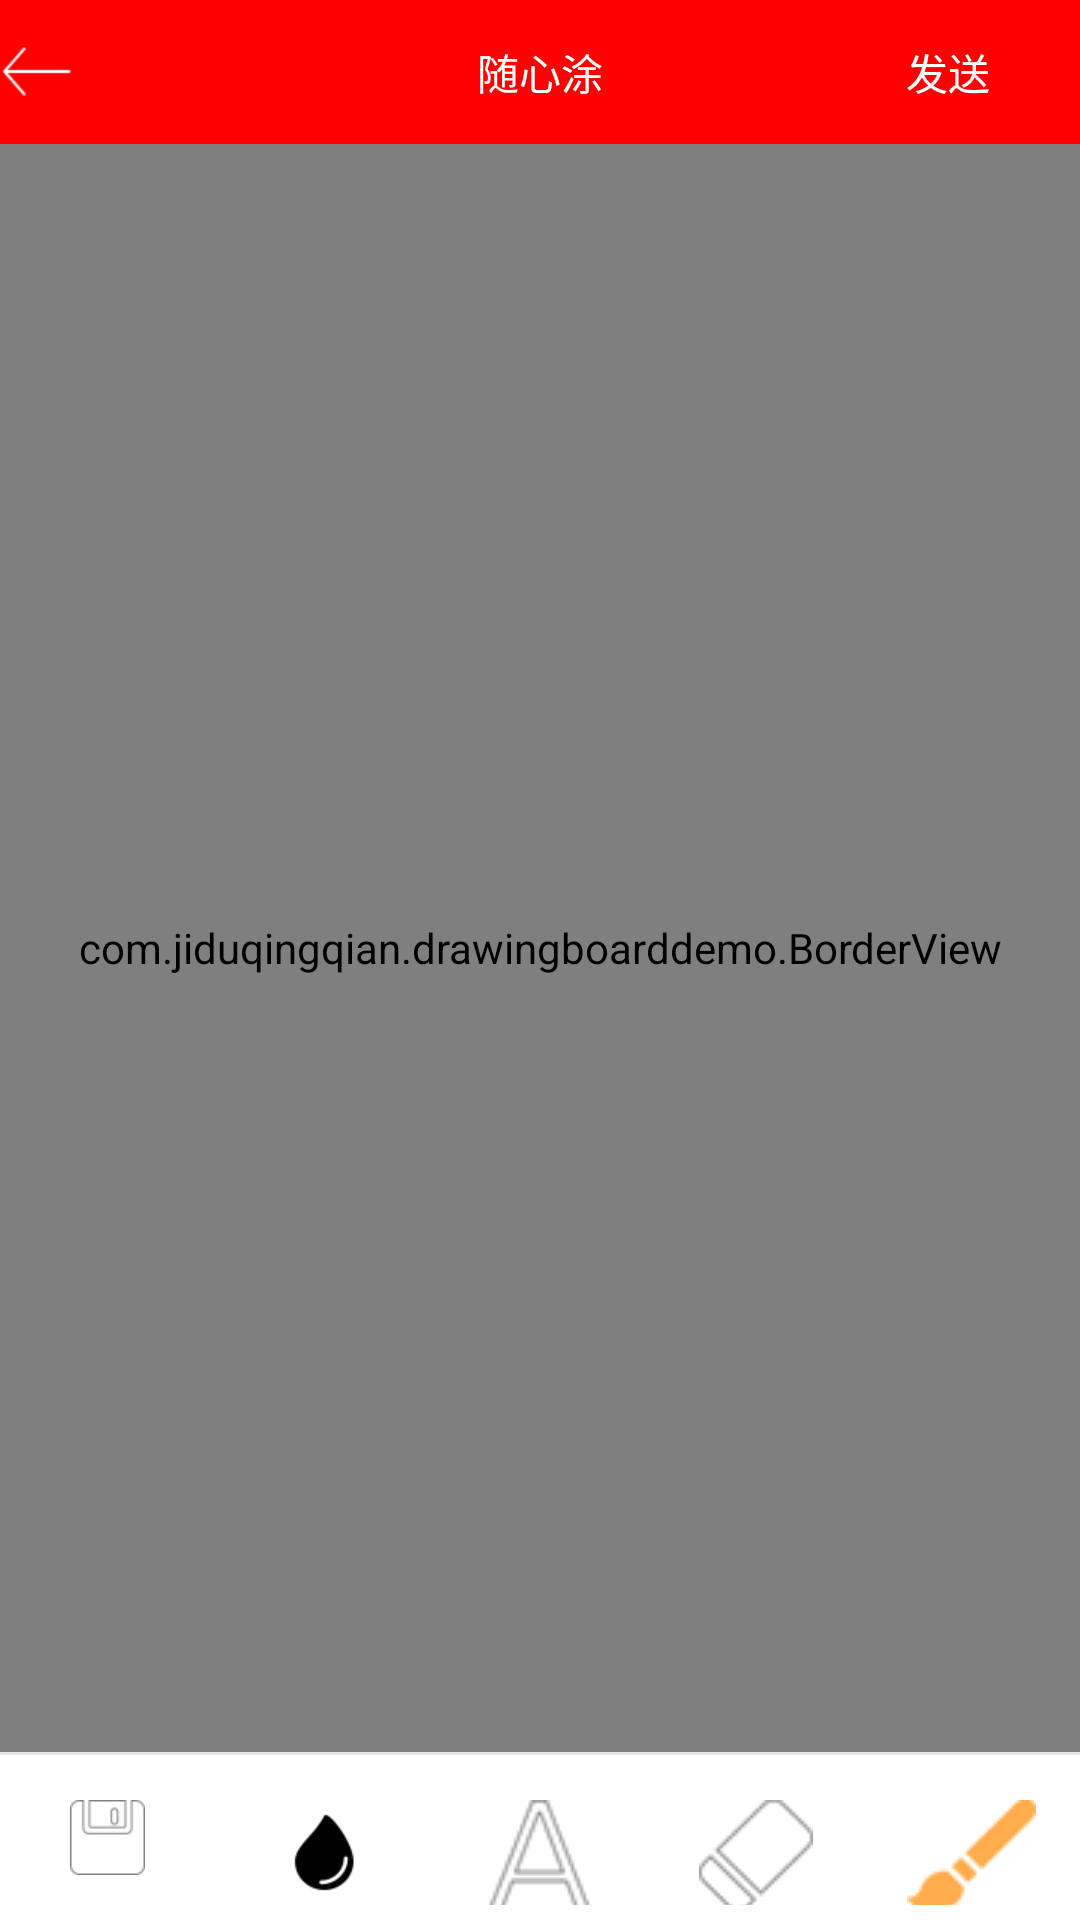

Icons on this 1080 × 1920 Android screen, each with the point to tap as (x,y):
return: (36,71)
